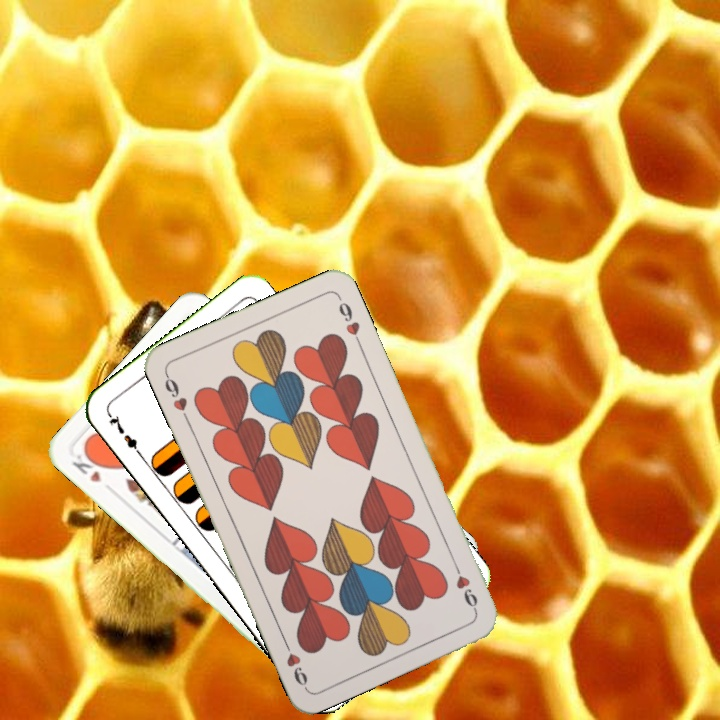E7: (104, 410, 146, 461)
H9: (449, 558, 480, 615), (160, 369, 192, 424)
HK: (68, 446, 107, 485)
